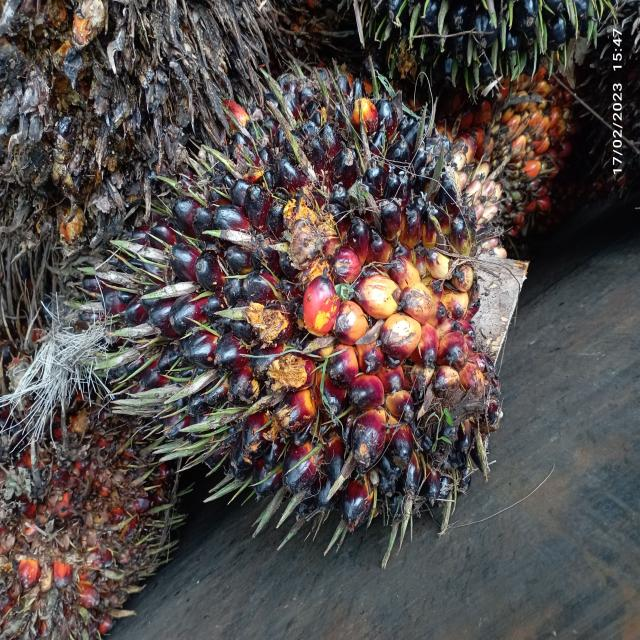fraksi 00: (84, 56, 521, 597)
